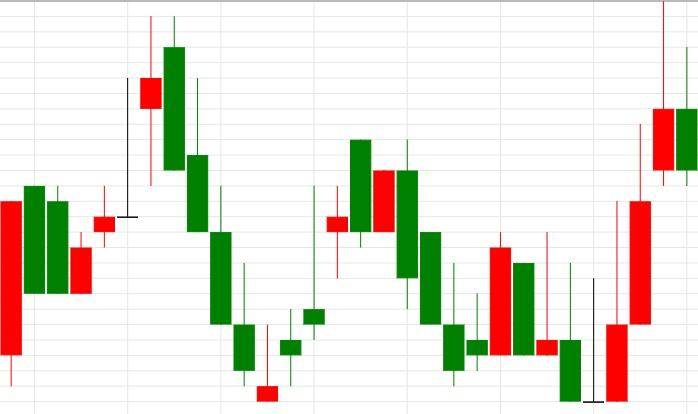inverse_hammer_rise: (164, 16, 278, 402)
three_white_soldiers_rise: (513, 0, 674, 403)
